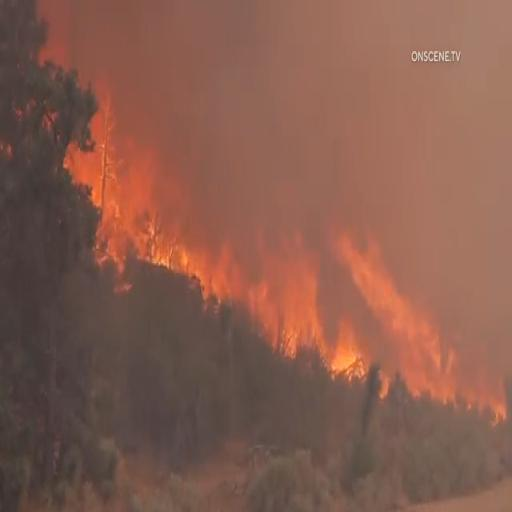fire: (82, 81, 128, 259), (142, 205, 186, 288), (320, 331, 368, 398)
